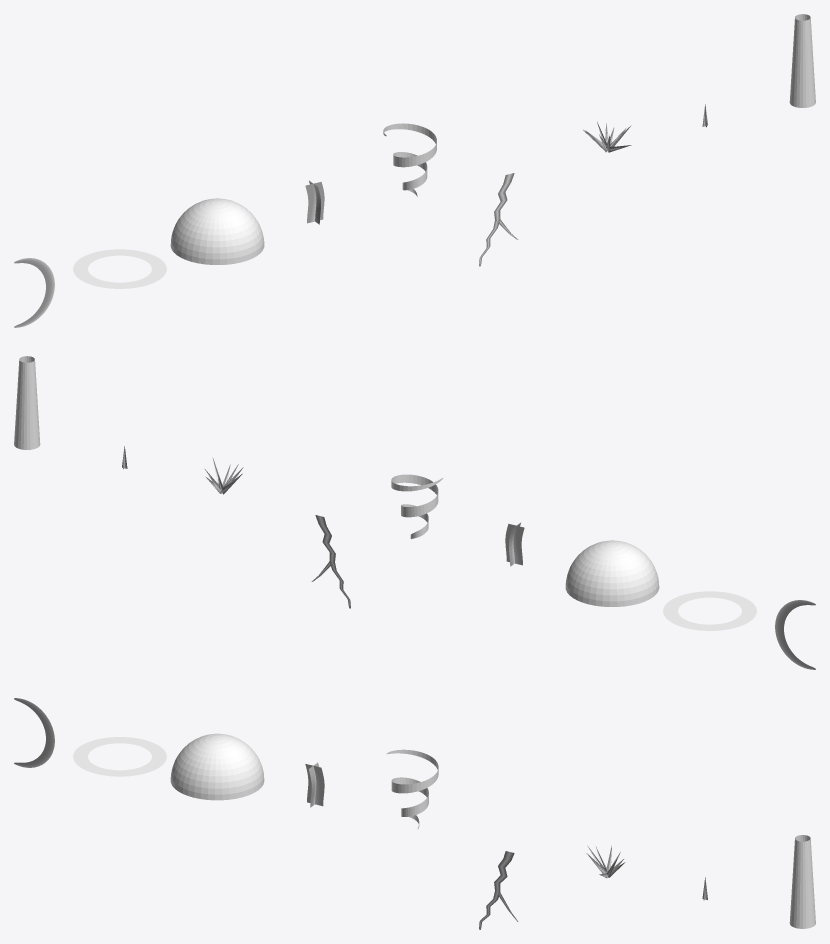
Rendered from SpikeRushFX2.fbx.
3 views of the same model, one above another, from view 1: azimuth 30°, elevation 25°; view 2: azimuth 150°, elevation 25°; view 3: azimuth 330°, elevation 25° (orthographic).
Parts seen in each view (by area): view 1: FX_Dome, FX_Column, FX_Ring, FX_Spiral, FX_Slash, FX_Flame, FX_Bolt; view 2: FX_Dome, FX_Column, FX_Ring, FX_Spiral, FX_Slash, FX_Flame, FX_Bolt; view 3: FX_Dome, FX_Column, FX_Ring, FX_Spiral, FX_Slash, FX_Flame, FX_Bolt, FX_Crown.
Boxes of the visible parts, x1,y1,x2,y2 form: FX_Dome: (170,198,264,264); FX_Column: (789,14,815,107); FX_Ring: (73,249,166,288); FX_Spiral: (383,123,436,196); FX_Slash: (14,258,54,327); FX_Flame: (305,180,324,224); FX_Bolt: (479,173,518,266); FX_Dome: (565,540,659,606); FX_Column: (14,356,40,449); FX_Ring: (663,591,756,630); FX_Spiral: (391,474,443,539); FX_Slash: (775,600,815,669); FX_Flame: (505,522,524,566); FX_Bolt: (311,515,350,608); FX_Dome: (170,733,264,800); FX_Column: (789,835,815,928); FX_Ring: (73,737,166,776); FX_Spiral: (386,749,438,829); FX_Slash: (14,698,54,767); FX_Flame: (305,762,324,807); FX_Bolt: (479,851,518,929); FX_Crown: (586,845,625,878).
Size of the model in its own units: 98.44 by 20 by 10.
Materials: 7 (7 with a texture image).
